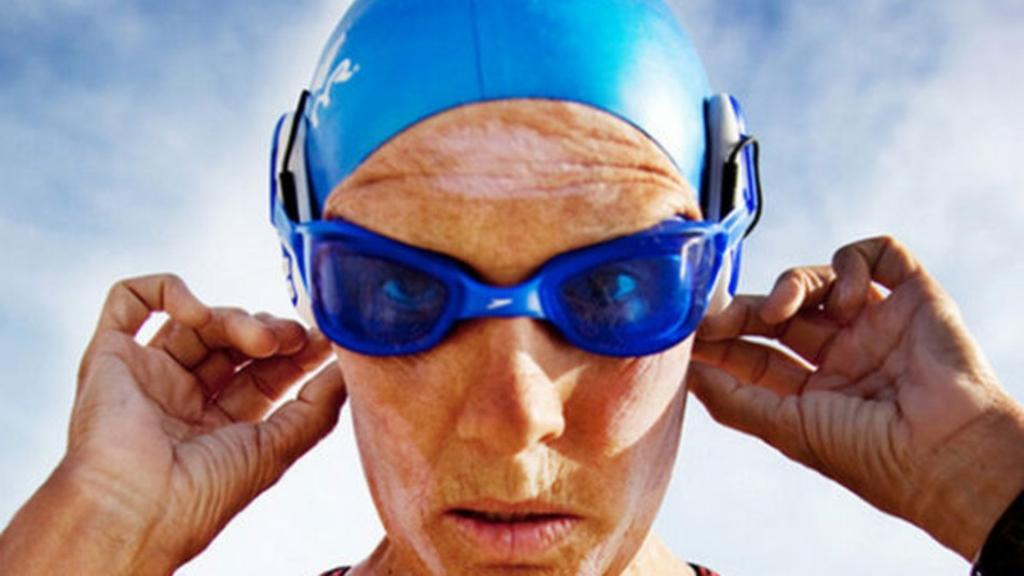face: (336, 142, 696, 576)
